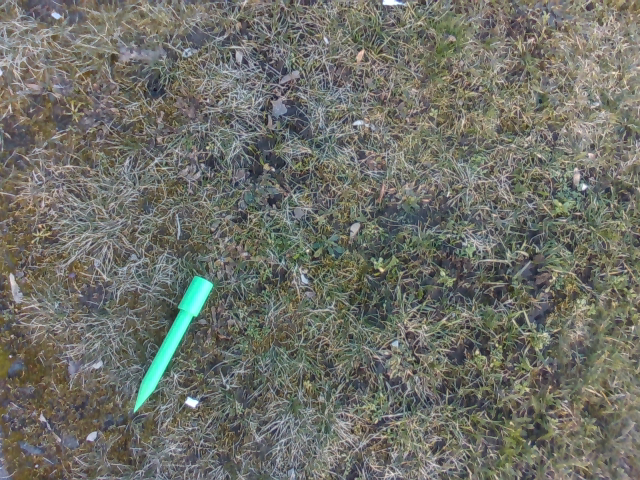Probe: (126, 267, 219, 422)
